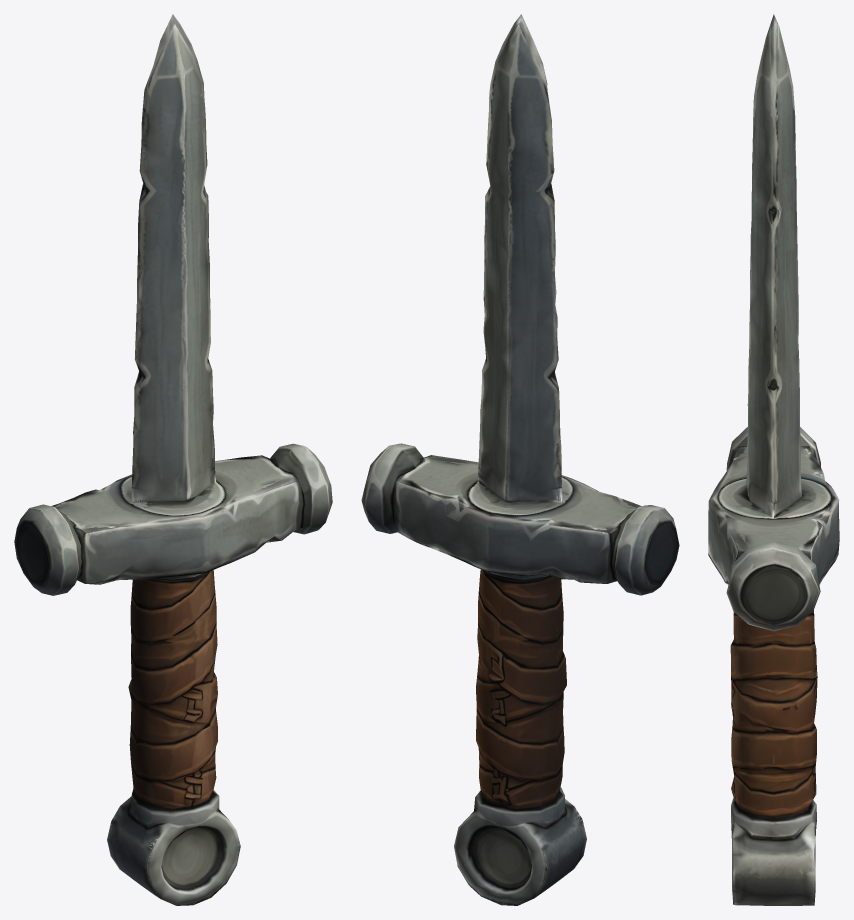
Rendered from Prop_Weapon_Longsword.fbx.
3 renders of one model, left to right at view 1: azimuth 30°, elevation 25°; view 2: azimuth 150°, elevation 25°; view 3: azimuth 270°, elevation 25°, orthographic.
Parts seen in each view (by area): view 1: texture_mapping; view 2: texture_mapping; view 3: texture_mapping.
Boxes of the visible parts, x1,y1,x2,y2 form: texture_mapping: [14, 14, 332, 905]; texture_mapping: [361, 14, 679, 905]; texture_mapping: [708, 14, 839, 905].
Bounding box in the file's own units: 0.3392 × 0.1352 × 1.01.
Materials: 1 (1 with a texture image).
